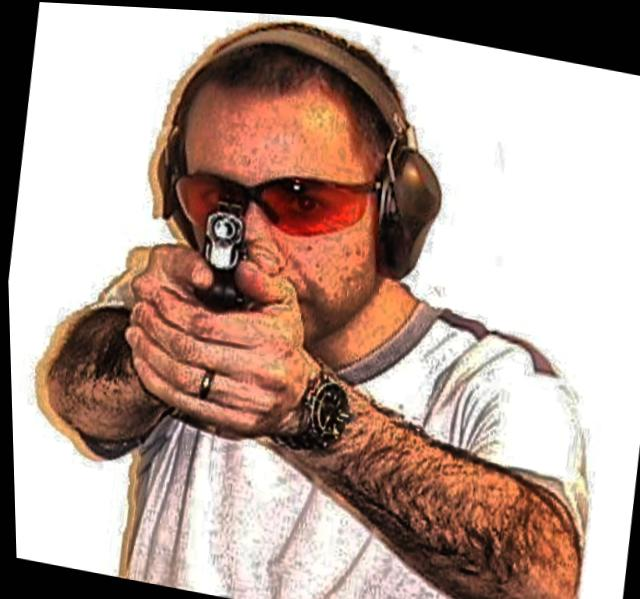pistol: (184, 175, 267, 314)
